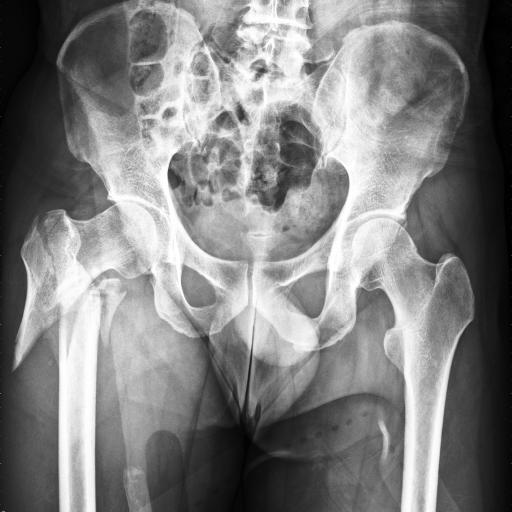intertrochanteric: (44, 202, 158, 315), (20, 216, 61, 323)
lesser-trochanter: (96, 278, 127, 348)
normal: (349, 218, 475, 512)
subtrochanteric: (59, 286, 100, 390), (11, 273, 53, 373)
